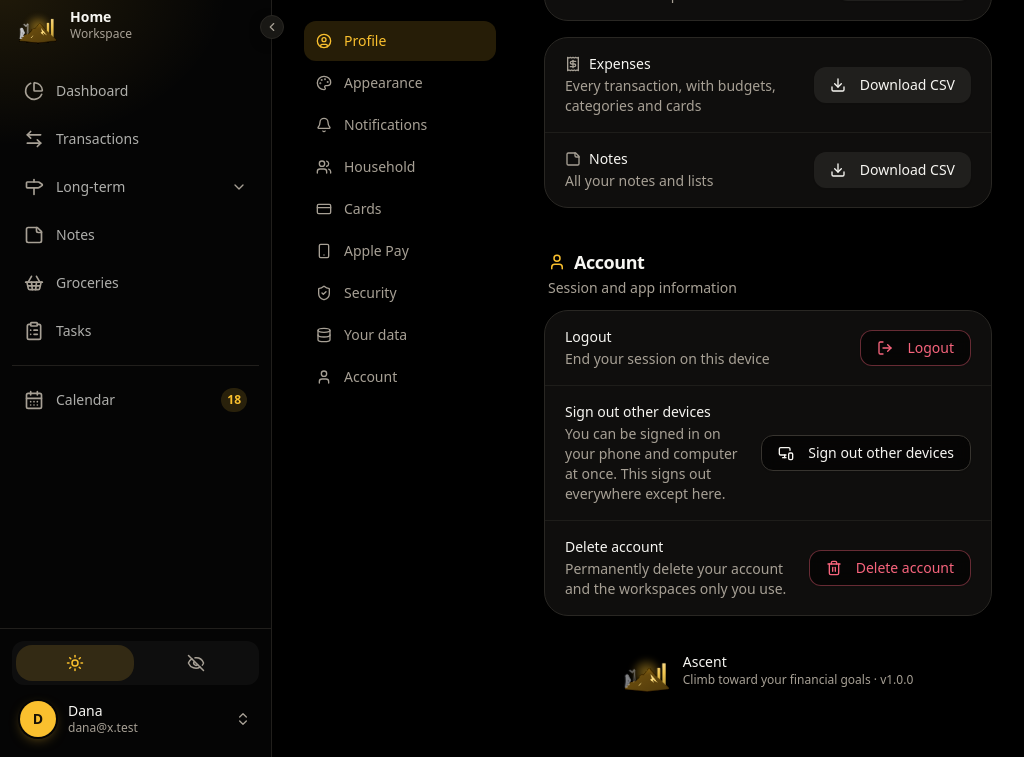
it: signing out of the other devices keeps this one signed in
(page scrolled)
Click the button "Sign out other devices" at (866, 453), box [761, 435, 971, 471]
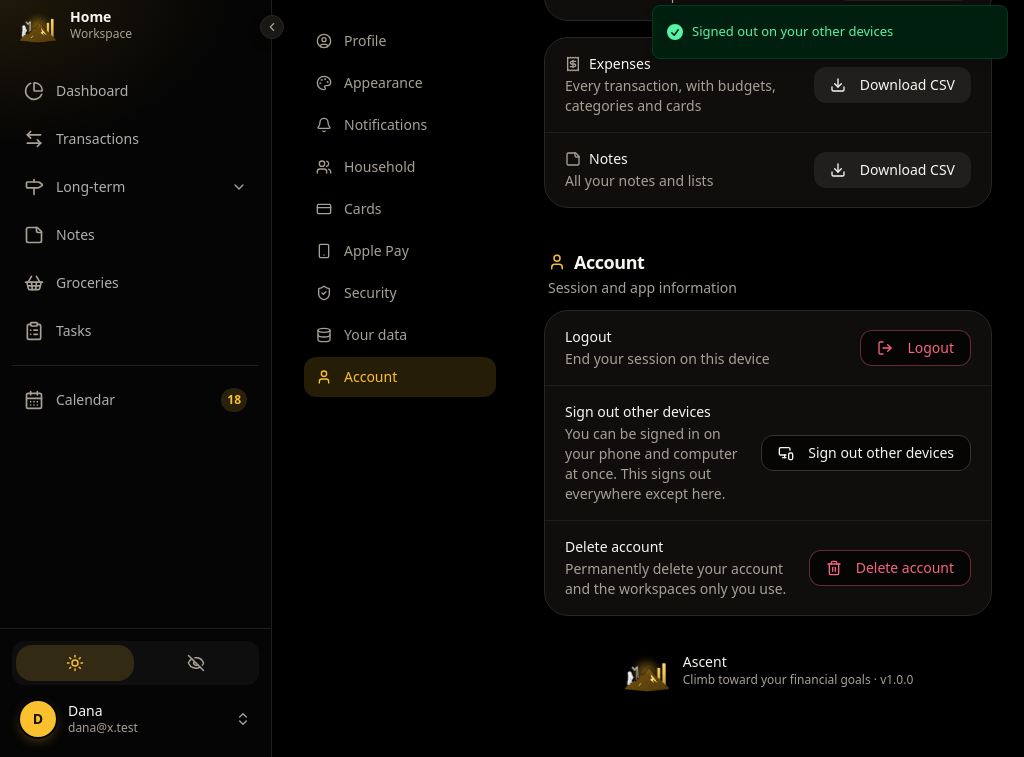
Now the text "Signed out on your other devices" is shown, box [692, 22, 893, 42]
